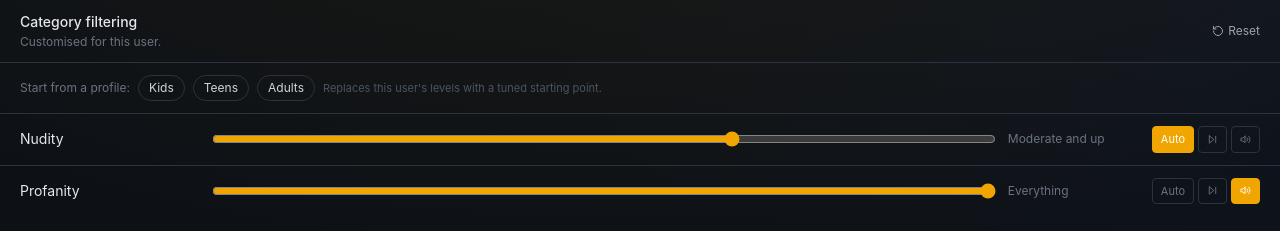
Test: CategoryMatrix › resets preferences back to defaults
Click the button "Reset" at point(1236, 31), box [1212,23,1260,39]
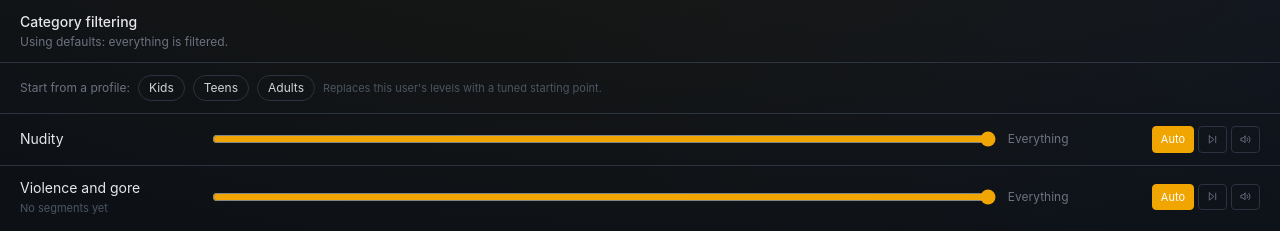
expect the text "Using defaults: everything is filtered." is shown: met, box [20,34,228,50]
